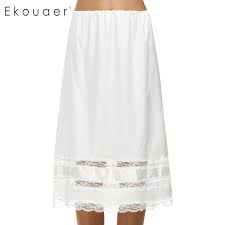C_skirt: (38, 6, 185, 215)
